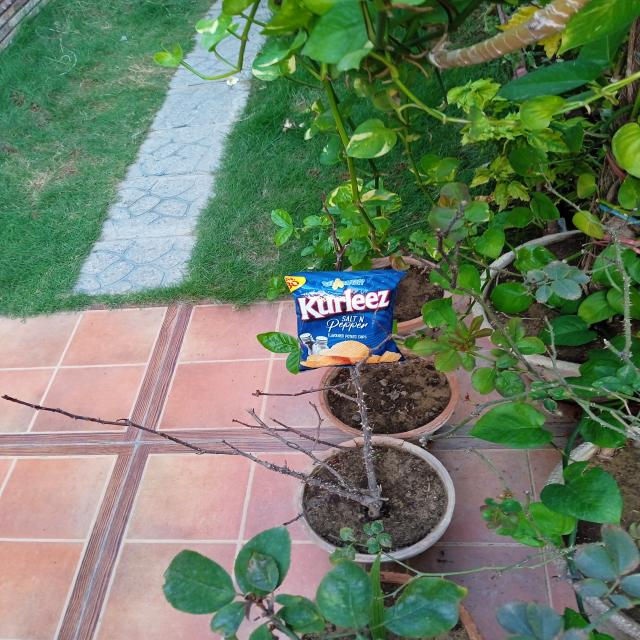Plastic: (289, 274, 402, 366)
